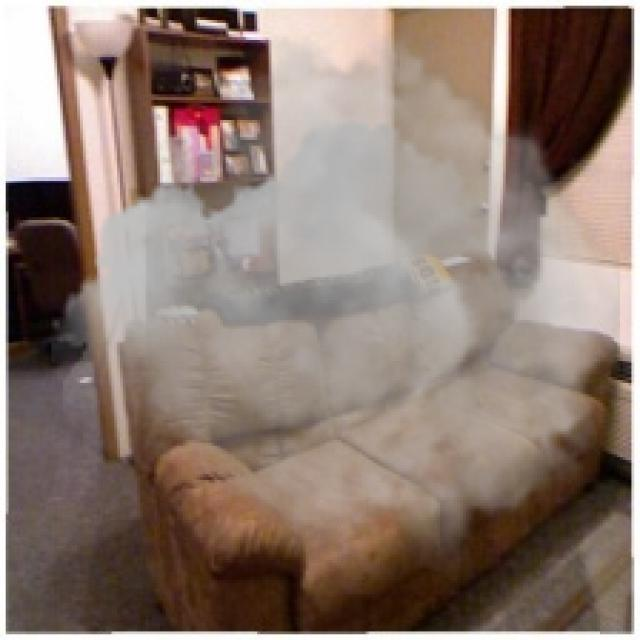smoke: (51, 17, 620, 577)
